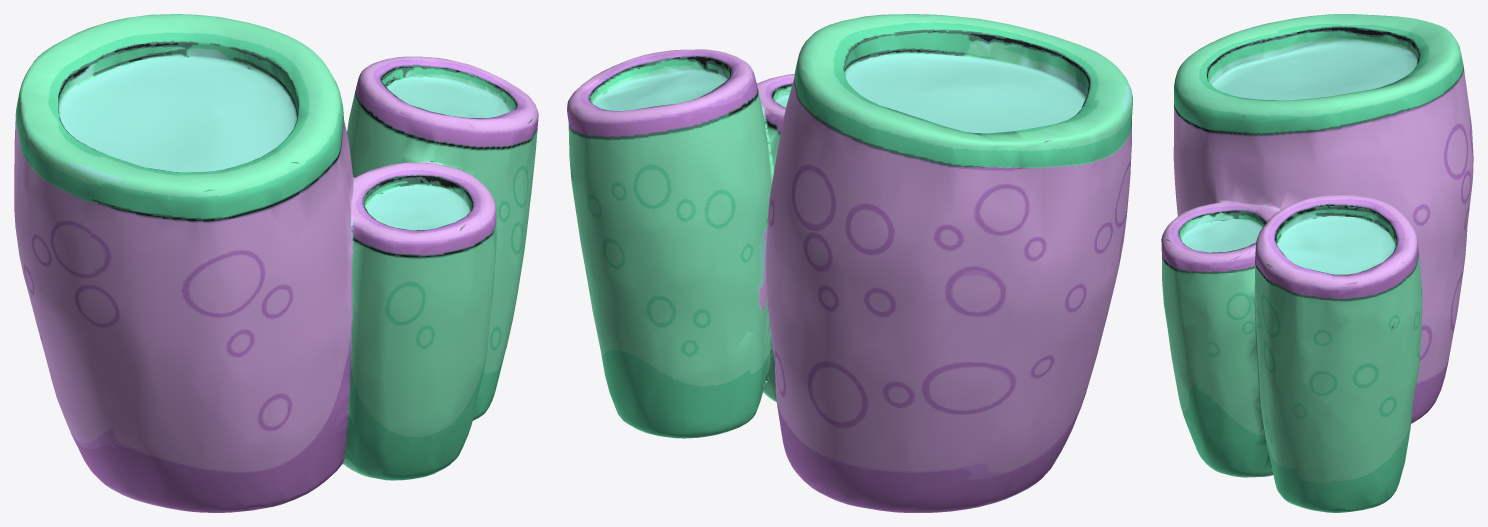
File: sponge_tubes.glb
3 views of the same model, side by side, from view 1: azimuth 30°, elevation 25°; view 2: azimuth 150°, elevation 25°; view 3: azimuth 270°, elevation 25° (orthographic). The views are drawn at different scales.
Parts seen in each view (by area): view 1: Mesh_0; view 2: Mesh_0; view 3: Mesh_0.
Boxes of the visible parts, x1=… form: Mesh_0: x1=14, y1=14, x2=538, y2=512; Mesh_0: x1=567, y1=14, x2=1132, y2=512; Mesh_0: x1=1161, y1=14, x2=1473, y2=512.
Size of the model in its own units: 1.9 by 1.45 by 1.2.
1 material, 1 textured.
